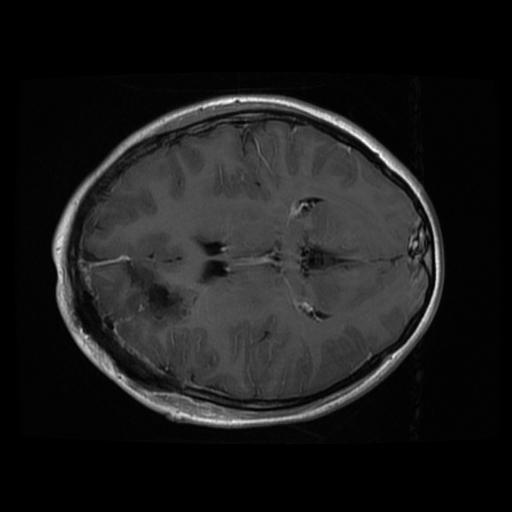glioma: (119, 229, 197, 331)
